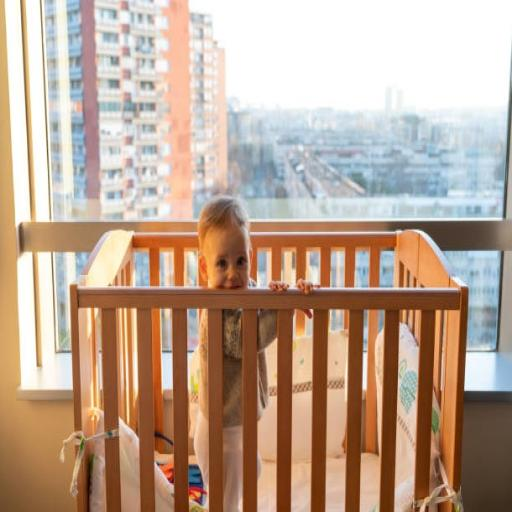baby: (223, 309, 242, 511)
crib: (70, 231, 467, 510)
